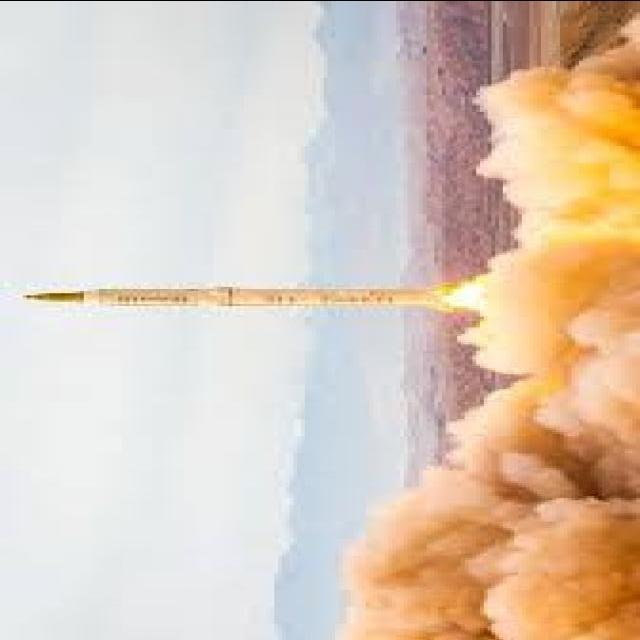Missile: (13, 279, 466, 311)
